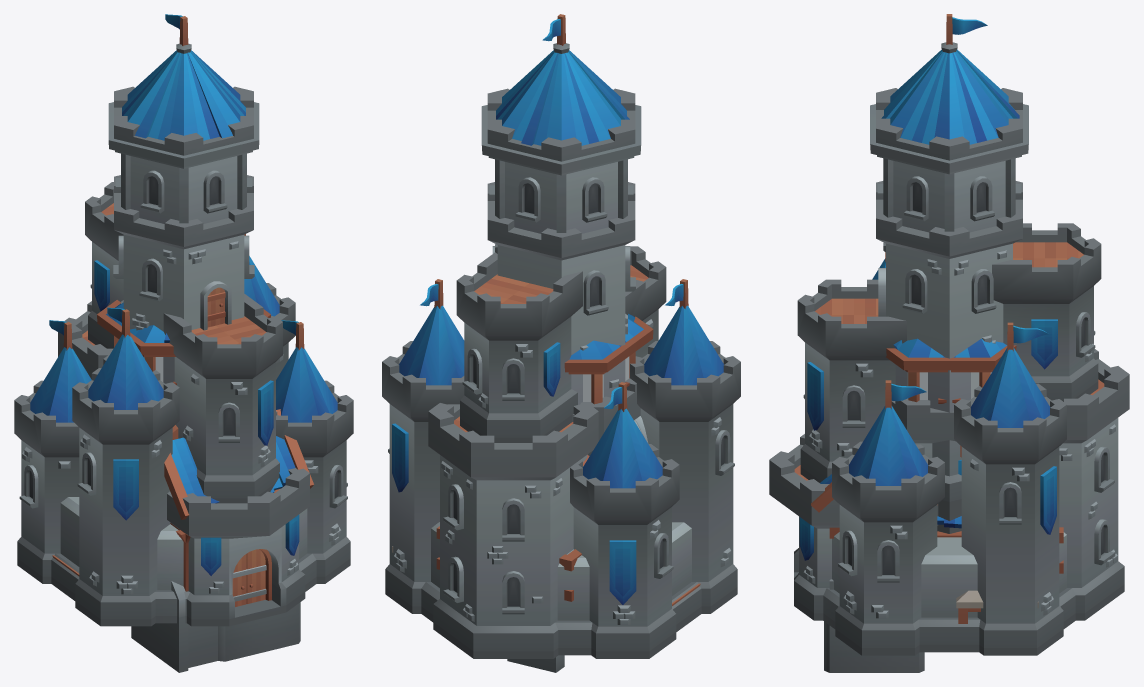
Rendered from village.glb.
3 renders of one model, left to right at view 1: azimuth 30°, elevation 25°; view 2: azimuth 150°, elevation 25°; view 3: azimuth 270°, elevation 25°, orthographic. The views are drawn at different scales.
Parts seen in each view (by area): view 1: building_castle_blue, building_watermill_blue, building_tower_A_top_blue; view 2: building_castle_blue, building_tower_A_top_blue, building_tower_A_blue, building_market_blue, building_watermill_blue; view 3: building_castle_blue, building_tower_A_top_blue, building_watermill_blue, building_tower_A_blue, building_market_blue.
Boxes of the visible parts, x1,y1,x2,y2 form: building_castle_blue: [14, 14, 353, 626]; building_watermill_blue: [131, 409, 313, 672]; building_tower_A_top_blue: [97, 300, 270, 385]; building_castle_blue: [382, 14, 740, 658]; building_tower_A_top_blue: [564, 313, 653, 404]; building_tower_A_blue: [572, 378, 640, 440]; building_market_blue: [392, 526, 700, 605]; building_watermill_blue: [507, 655, 564, 672]; building_castle_blue: [769, 14, 1129, 655]; building_tower_A_top_blue: [886, 338, 1016, 403]; building_watermill_blue: [811, 474, 937, 672]; building_tower_A_blue: [891, 398, 961, 475]; building_market_blue: [955, 527, 1063, 623].
Bounding box in the file's own units: 1.98 × 4.33 × 2.26.
1 material, 1 textured.
